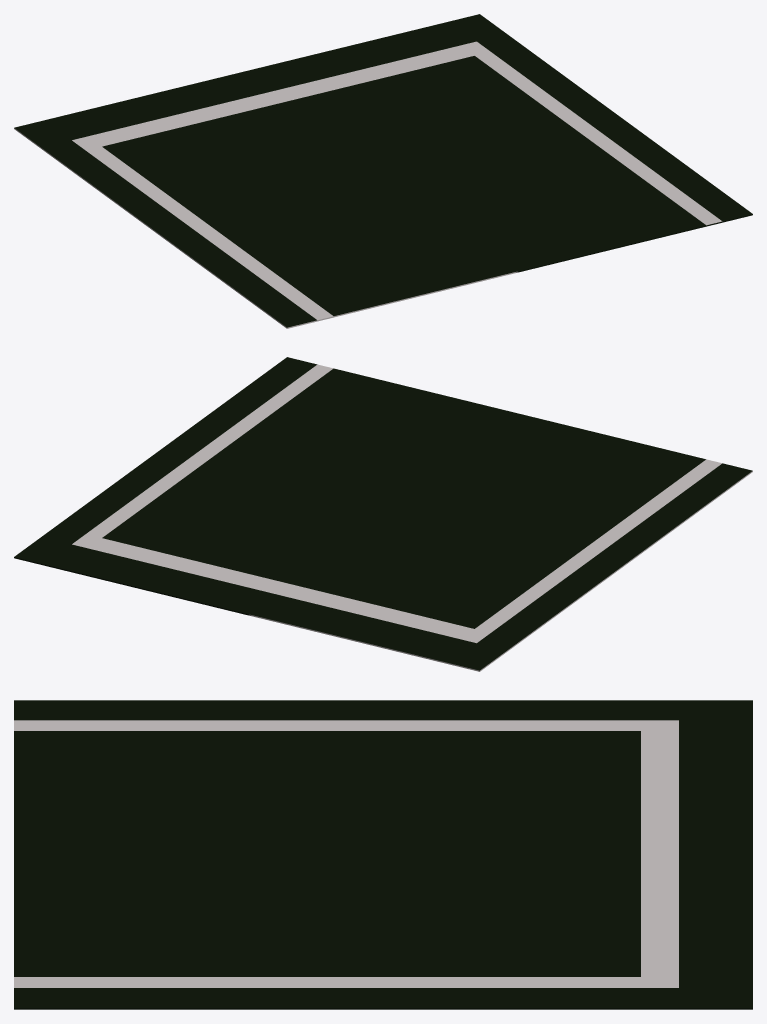
The model's file is calle.obj.
The picture shows the model from 3 angles, top to bottom: view 1: azimuth 30°, elevation 25°; view 2: azimuth 150°, elevation 25°; view 3: azimuth 270°, elevation 25°; orthographic projection. The views are drawn at different scales.
Parts seen in each view (by area): view 1: pCube1; view 2: pCube1; view 3: pCube1.
Boxes of the visible parts, x1,y1,x2,y2 form: pCube1: (14,14,752,328); pCube1: (14,357,752,671); pCube1: (14,700,752,1009).
Size of the model in its own units: 23.86 by 0.0611 by 24.23.
1 material, 1 textured.
